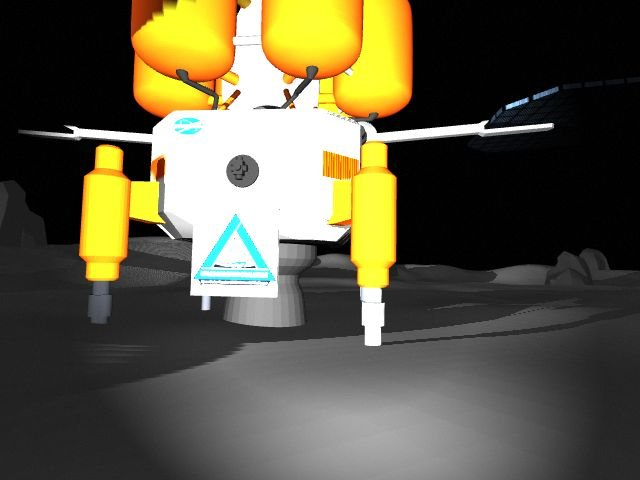basemarker: (192, 213, 277, 288)
